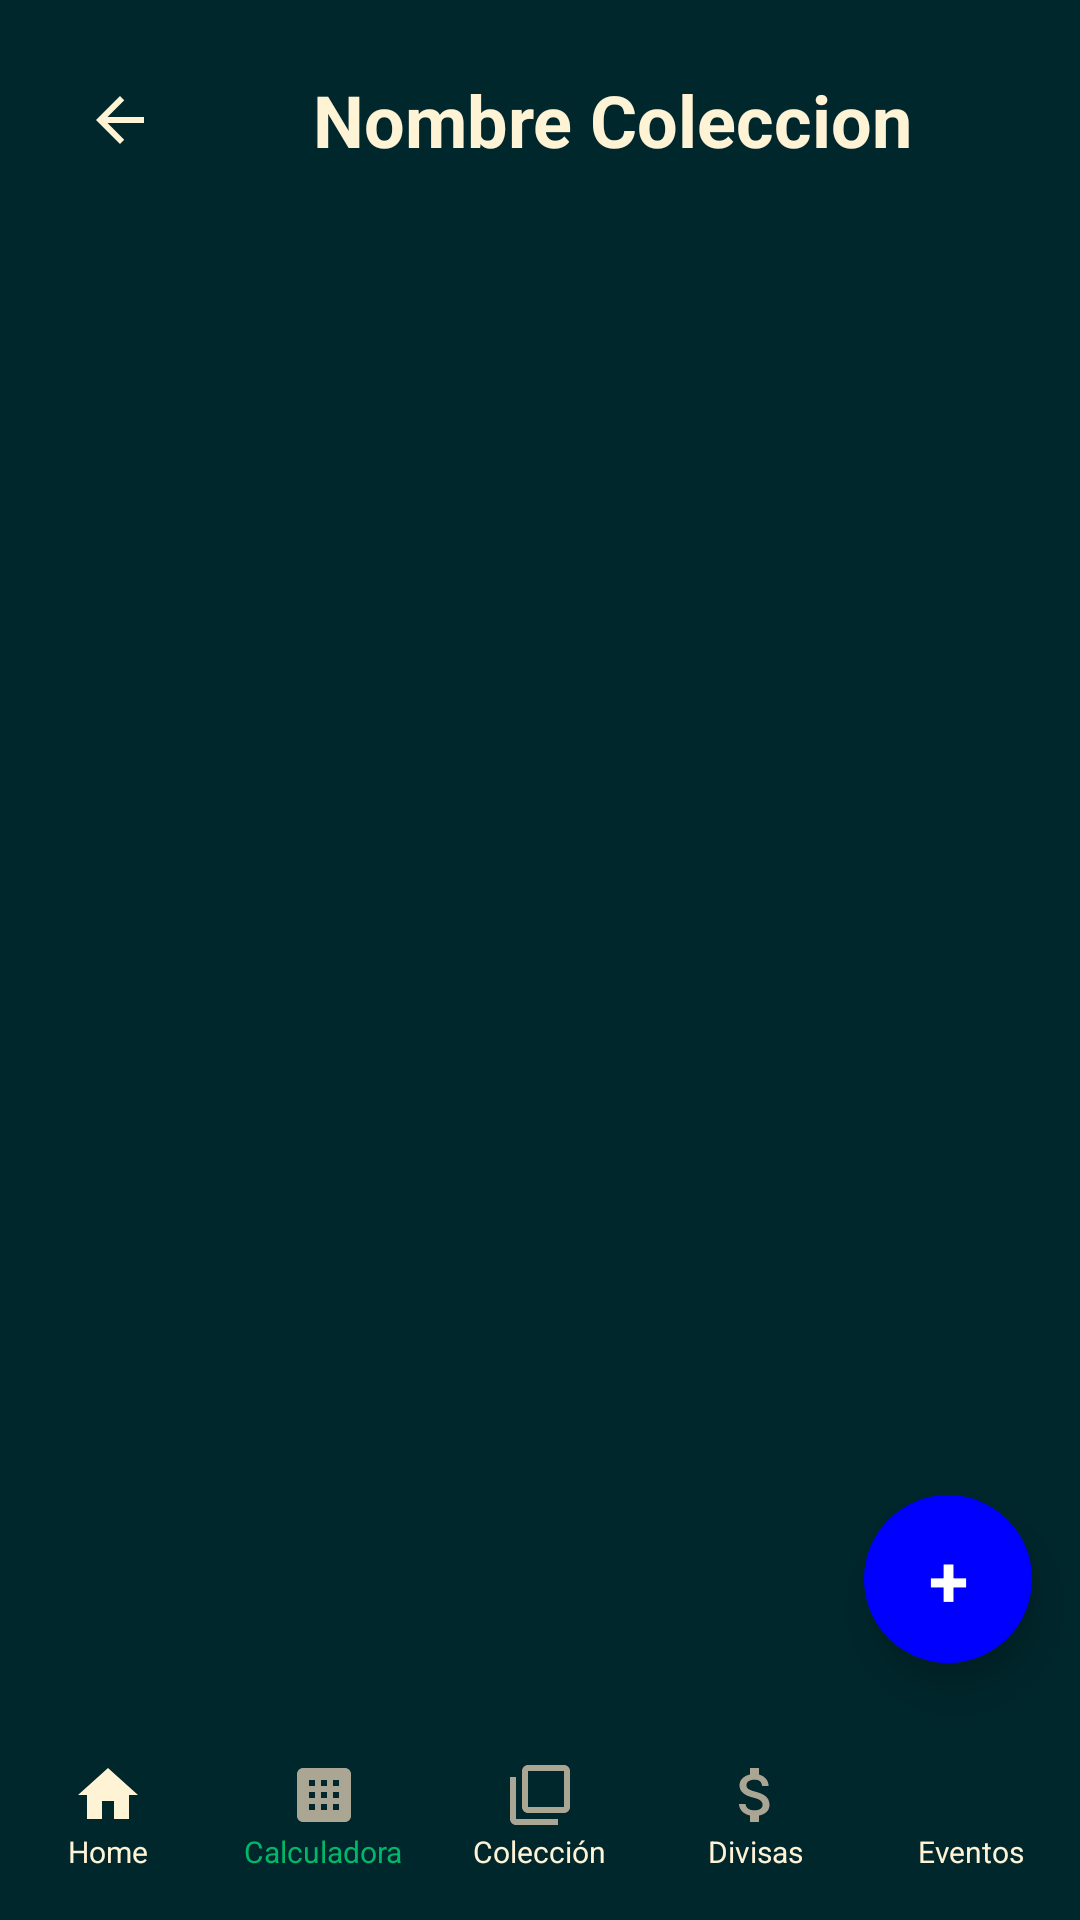

Point at icon controls on the screen. Image size 1080w x 1920h, points as [x,y].
Volver: [120,120]
